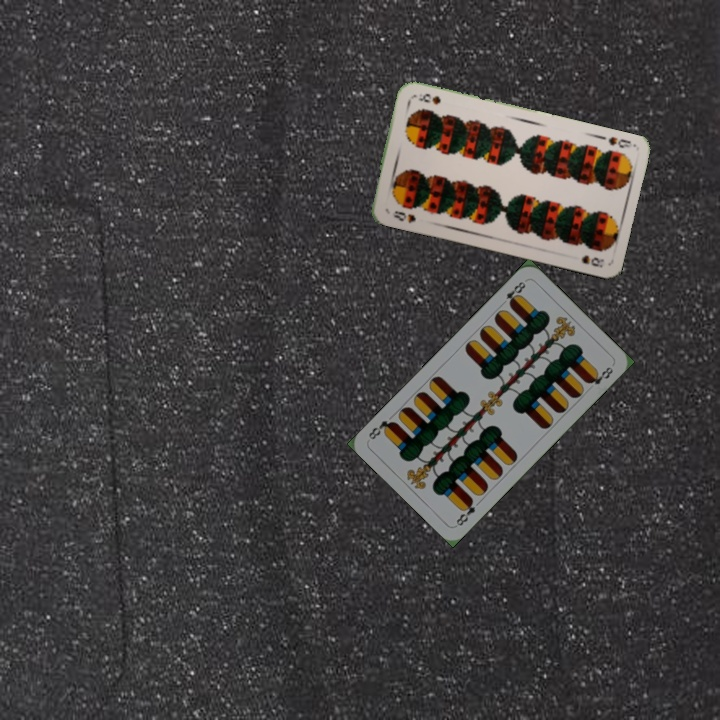E8: (497, 276, 529, 309), (452, 494, 478, 529)
S8: (604, 132, 636, 150), (389, 207, 418, 225)
